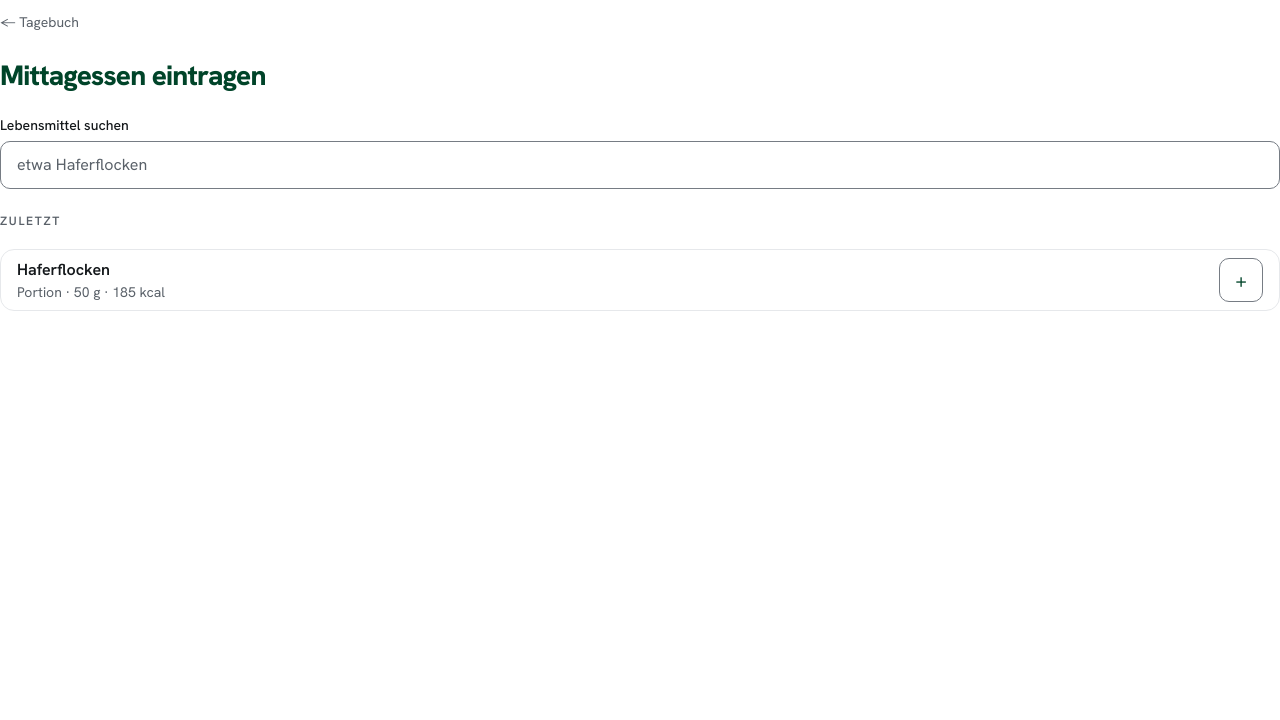
Test: Eintragen ins Tagebuch (Handoff 2026-10-29, 5.7) › trägt aus dem Fenster ein, schließt es und zeigt den Haken an der Zeile (ANN-813)
The width and height of the screenshot is (1280, 720).
Click the button "Haferflocken Portion · 50 g · 185 kcal" at (64, 269), box x1=1 y1=250 x2=1211 y2=310
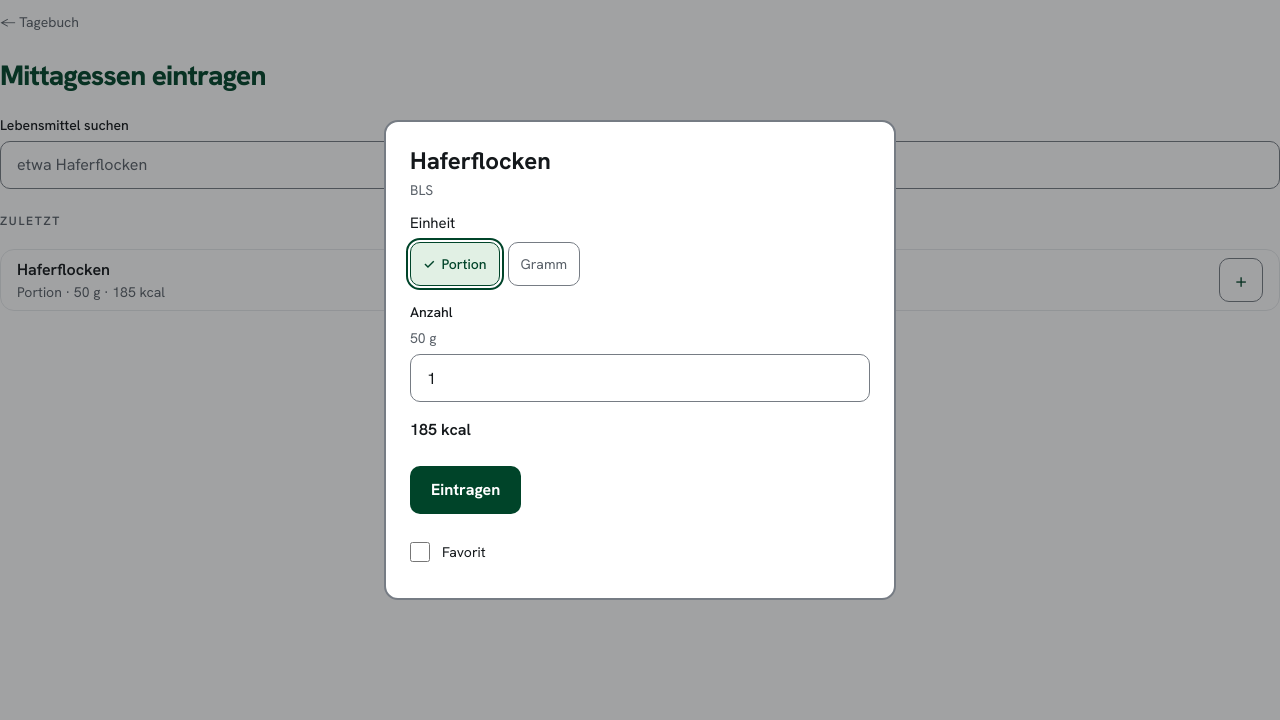
Click the button "Eintragen" at (466, 490), box x1=410 y1=466 x2=521 y2=514
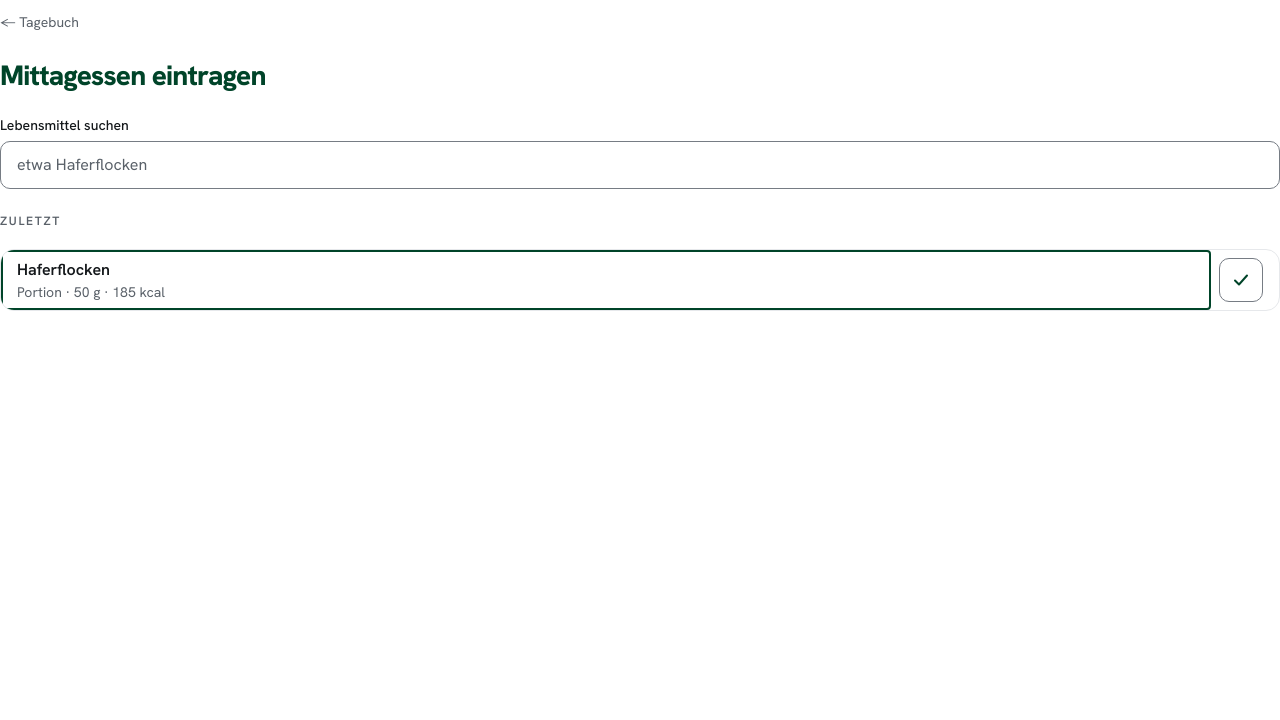
expect the heading "Mittagessen eintragen" is shown: met, box x1=0 y1=60 x2=266 y2=91
expect the dialog is gone: met
expect the icon is shown: met, box x1=1231 y1=270 x2=1251 y2=290
